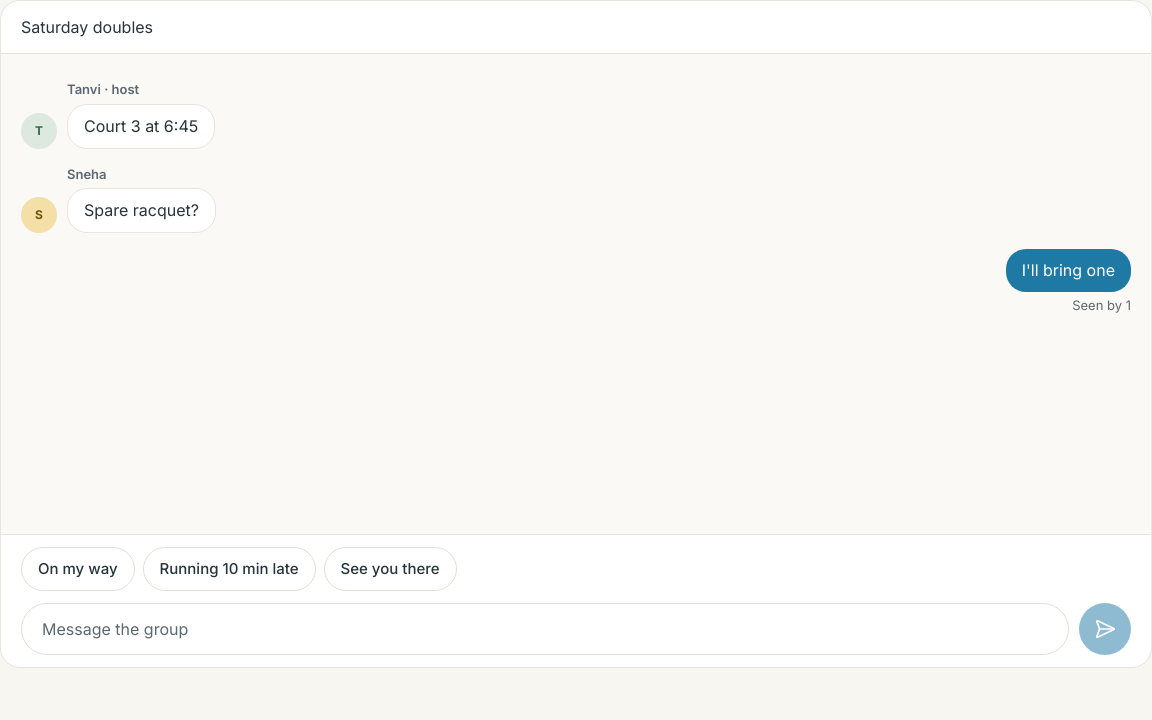
S16 chat room (ST-143) › rolls back and keeps the text when sending fails
The width and height of the screenshot is (1152, 720).
In the field with placeholder "Message the group": x=545, y=629 [21,603,1069,655], type "Hello?"
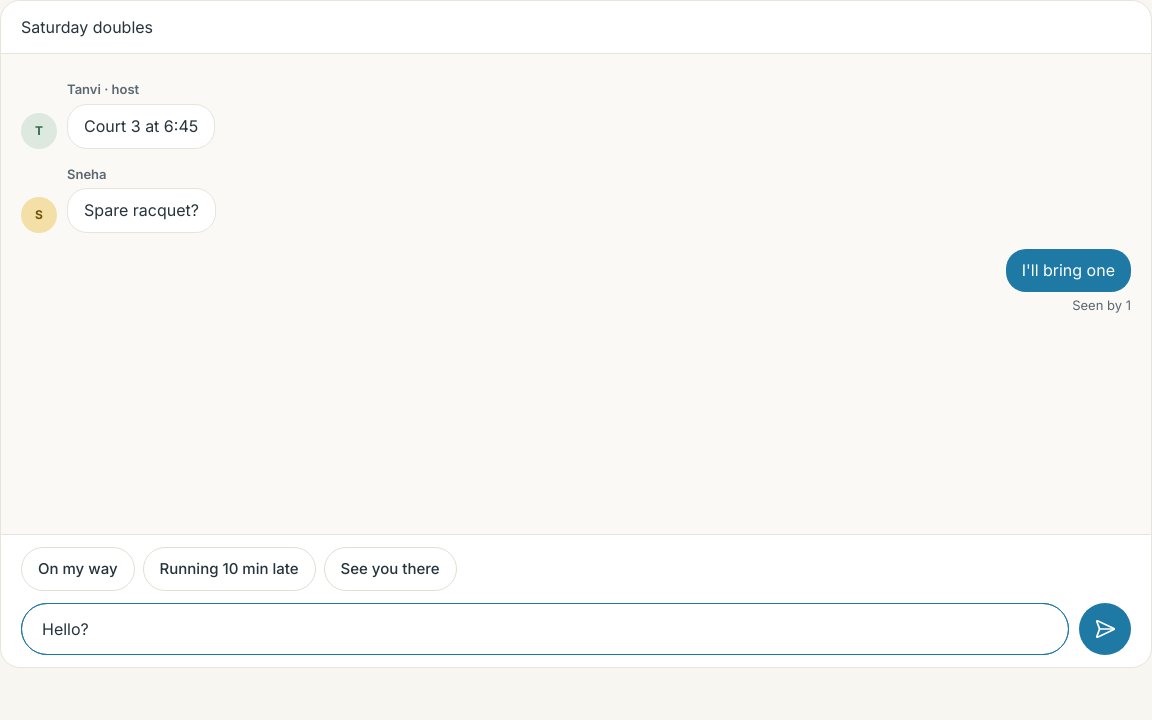
Click the button named "Send": x=1105, y=629 [1079,603,1131,655]
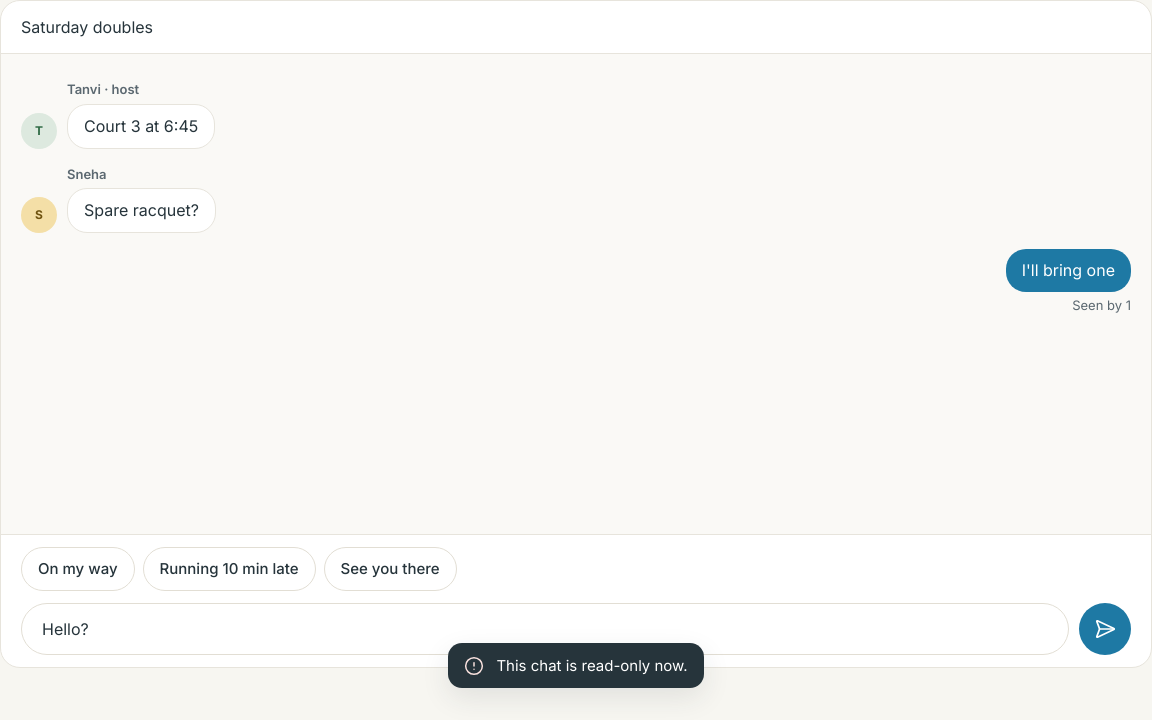
Check: the text "This chat is read-only now." is shown, box [496,655,688,676]
